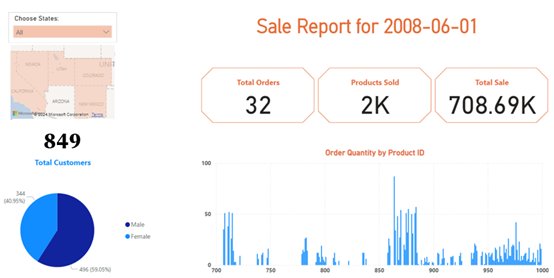

The page's visual inventory and layout, read from the dashboard file:
{"tool":"powerbi","page":{"name":"Page 1","canvas":[1280,720],"ordinal":0},"visuals":[{"type":"cardVisual","title":"Total Customer","fields":{"Data":["Count(Merged-orders&address.sales_order_id)","Sum(Merged-orders&address.order_qty)","Sum(Merged-orders&address.line_total)"]},"box":[477,170.2,759,129.5],"z":0},{"type":"slicer","fields":{"Values":["address.state_province"]},"box":[65.6,55,235,66.5],"z":1000},{"type":"filledMap","fields":{"Category":["Merged-orders&address.state_province"]},"box":[65.6,121.5,235,172],"z":2000},{"type":"card","fields":{"Values":["CountNonNull(Customer.customer_id)"]},"box":[74.5,285.5,218.1,111.7],"z":3000},{"type":"pieChart","title":"Customer Classcification","fields":{"Category":["Customer.Sex"],"Y":["CountNonNull(Customer.Sex)"]},"box":[21.3,409.7,366.2,233.2],"z":4000},{"type":"clusteredColumnChart","title":"Order Quantity by Product ID","fields":{"Category":["Merged-orders&address.product_id"],"Y":["Sum(Merged-orders&address.order_qty)"]},"box":[477,348.5,759,282.9],"z":5000},{"type":"textbox","box":[477,55,728,66.5],"z":6000}]}

Visuals, with their boxes on the page's 1280x720 design canvas (x1, y1, x2, y2). These are canvas units, not pixel positions in the 554x278 screenshot, which may show the page scaled, cropped or inside an application window:
"Total Customer" cardVisual: <bbox>477, 170, 1236, 300</bbox>
slicer - address.state_province: <bbox>66, 55, 301, 122</bbox>
filledMap - Merged-orders&address.state_province: <bbox>66, 122, 301, 294</bbox>
card - CountNonNull(Customer.customer_id): <bbox>74, 286, 293, 397</bbox>
"Customer Classcification" pieChart: <bbox>21, 410, 388, 643</bbox>
"Order Quantity by Product ID" clusteredColumnChart: <bbox>477, 348, 1236, 631</bbox>
textbox: <bbox>477, 55, 1205, 122</bbox>
